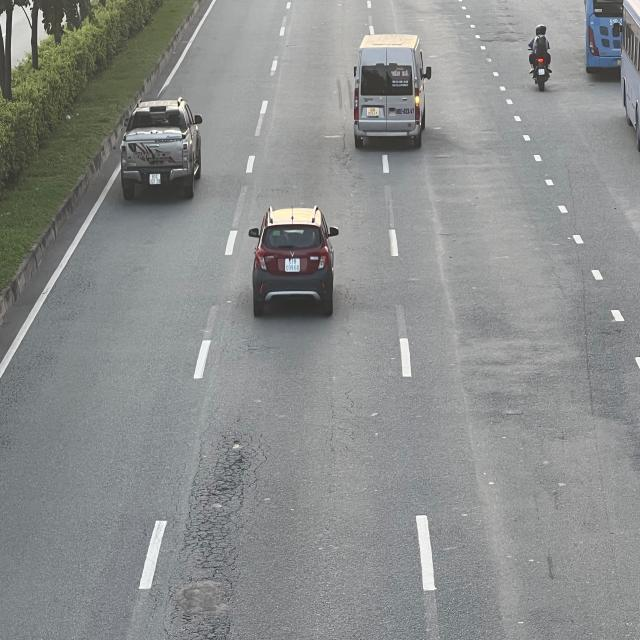car: (250, 204, 340, 314), (119, 101, 204, 200)
coach: (584, 0, 623, 74)
van: (349, 33, 429, 149)
